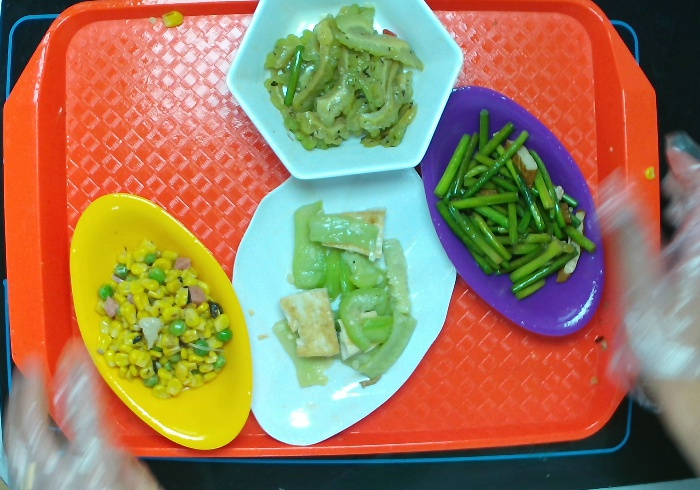RJxy-Bai_Ye_Pan: (223, 159, 460, 451)
RJxy-Fen_Hong_Tuo_Yuan: (416, 76, 609, 344)
RJxy-Huang_Se_Tuo_Yuan: (60, 185, 259, 456)
RJxy-Liu_Jiao_Wan: (222, 1, 474, 187)
